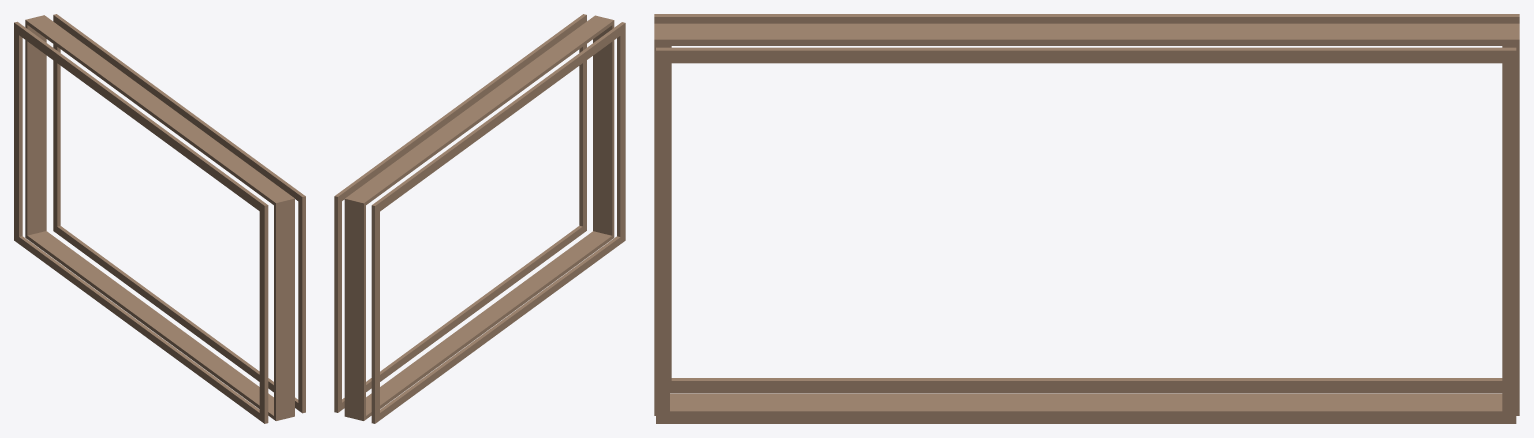
File: 2FU7NM7Vr3IBm9jCPWRFNO.dae
3 renders of one model, left to right at view 1: azimuth 30°, elevation 25°; view 2: azimuth 150°, elevation 25°; view 3: azimuth 270°, elevation 25°, orthographic. The views are drawn at different scales.
Parts seen in each view (by area): view 1: product-8f7875d6-1dfd-4348-bc09-b4c6606cf5d8-body; view 2: product-8f7875d6-1dfd-4348-bc09-b4c6606cf5d8-body; view 3: product-8f7875d6-1dfd-4348-bc09-b4c6606cf5d8-body.
Part boxes in pixels (<box>): product-8f7875d6-1dfd-4348-bc09-b4c6606cf5d8-body: <box>14,14,305,423</box>; product-8f7875d6-1dfd-4348-bc09-b4c6606cf5d8-body: <box>334,14,625,423</box>; product-8f7875d6-1dfd-4348-bc09-b4c6606cf5d8-body: <box>654,14,1519,423</box>.
Size of the model in its own units: 0.24 by 2.5 by 1.2.
